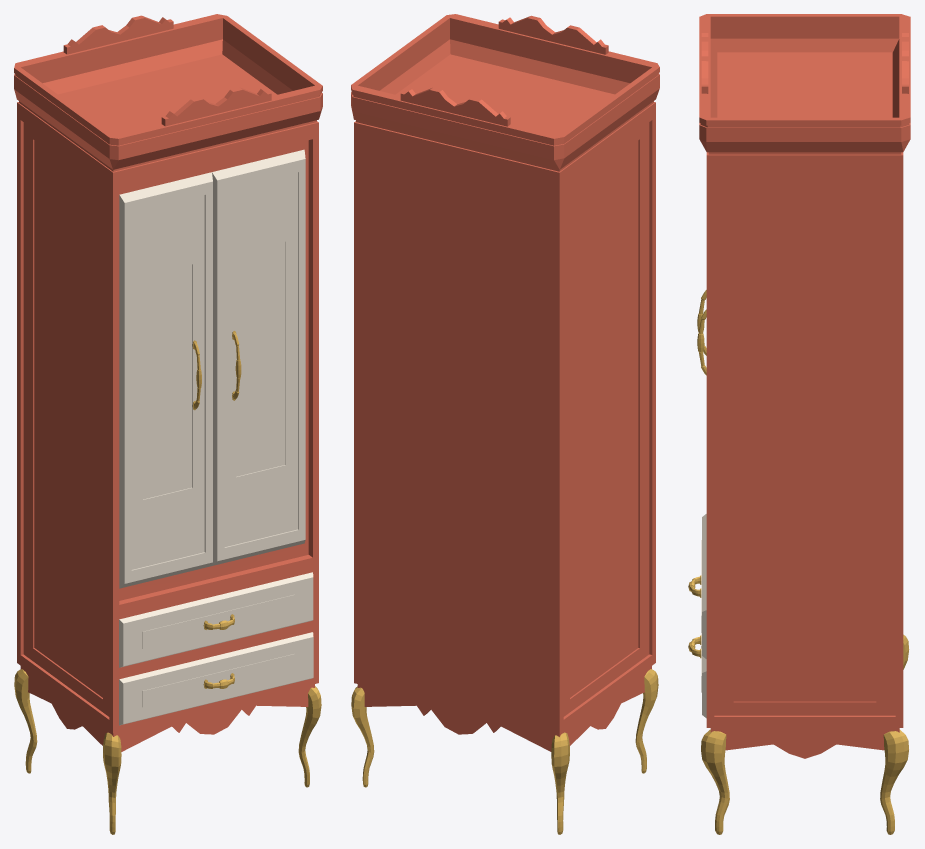
The model's file is pantry_b.glb.
3 views of the same model, side by side, from view 1: azimuth 30°, elevation 25°; view 2: azimuth 150°, elevation 25°; view 3: azimuth 270°, elevation 25° (orthographic). The views are drawn at different scales.
Visible parts, largest first — view 1: body; view 2: body; view 3: body.
Part boxes in pixels (x1,y1,x2,y2): body: [14, 14, 322, 834]; body: [351, 14, 659, 834]; body: [688, 14, 910, 834].
Bounding box in the file's own units: 0.64 × 2.05 × 0.56.
